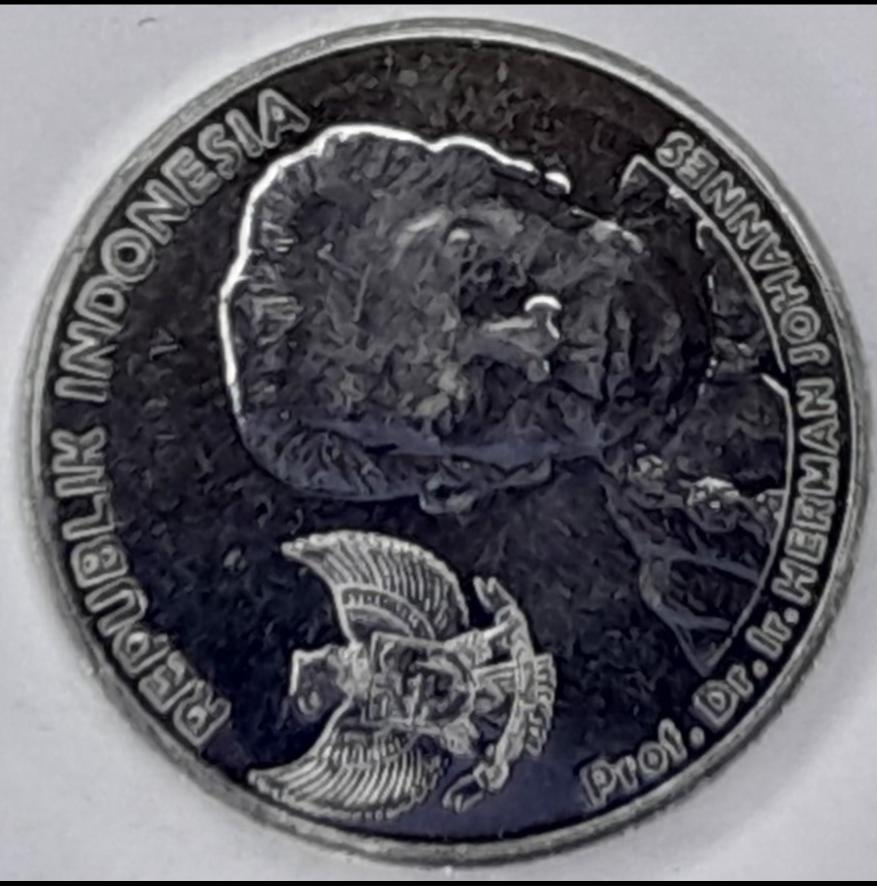coin_100_e2016: (19, 13, 872, 871)
